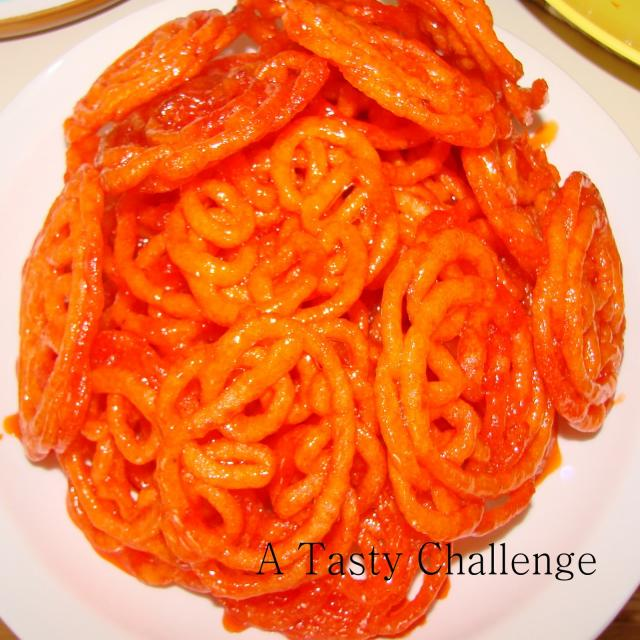jalebi: (73, 48, 597, 618)
